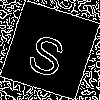S: (24, 24, 72, 79)
